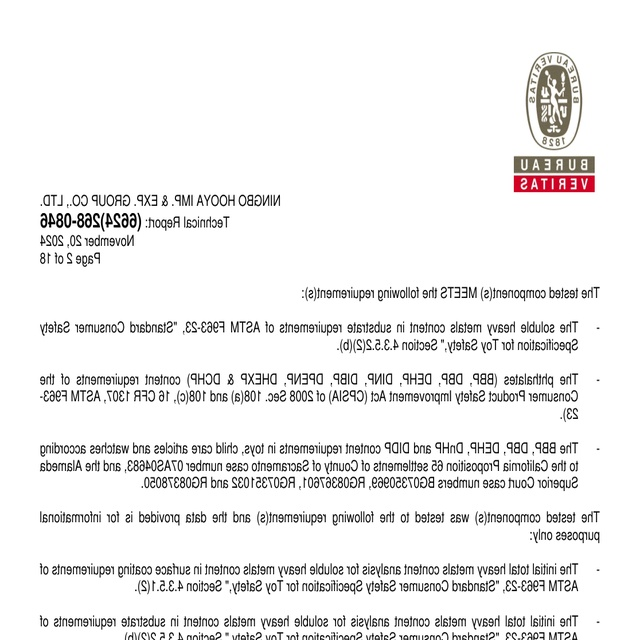bureau_veritas: (513, 49, 598, 194)
